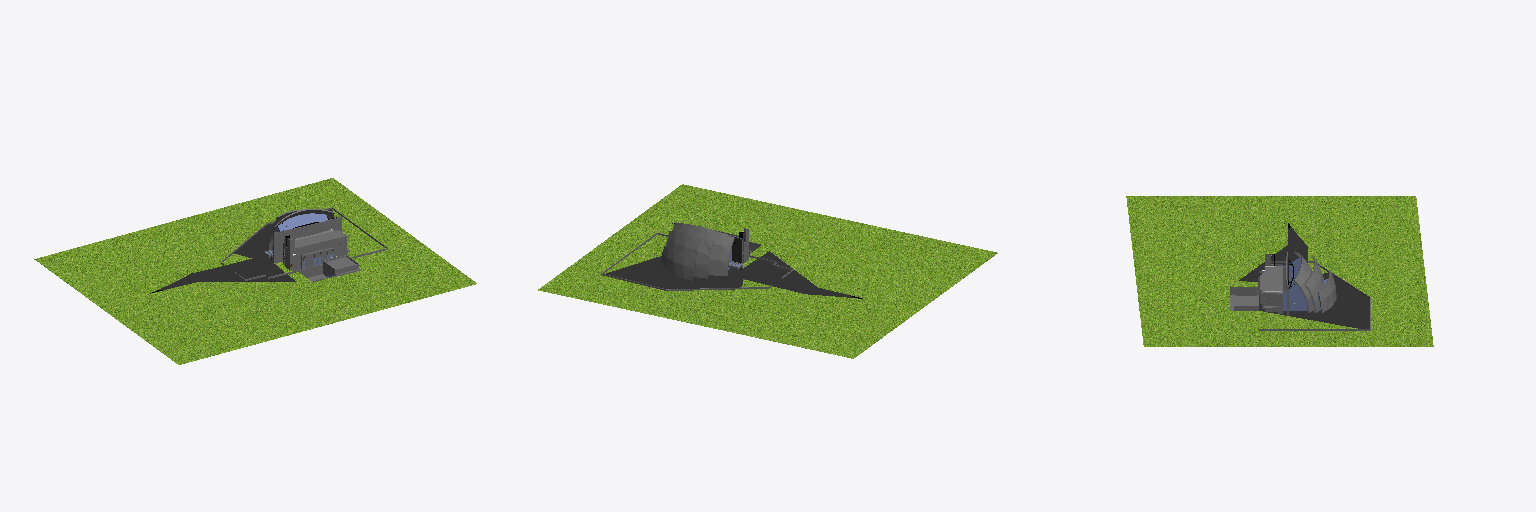
3 renders of one model, left to right at view 1: azimuth 30°, elevation 25°; view 2: azimuth 150°, elevation 25°; view 3: azimuth 270°, elevation 25°, orthographic.
Parts seen in each view (by area): view 1: Mesh385, Mesh34; view 2: Mesh385, Mesh217, Mesh18, Mesh3, Mesh384; view 3: Mesh385.
Boxes of the visible parts, box(x1,y1,x2,y2) form: Mesh385: box(34, 178, 476, 364); Mesh34: box(273, 216, 341, 262); Mesh385: box(538, 184, 997, 358); Mesh217: box(672, 223, 734, 275); Mesh18: box(666, 231, 713, 278); Mesh3: box(661, 246, 695, 280); Mesh384: box(601, 233, 793, 290); Mesh385: box(1126, 196, 1433, 346).
Bounding box in the file's own units: 3129 × 464 × 2707.
Materials: 14 (1 with a texture image).